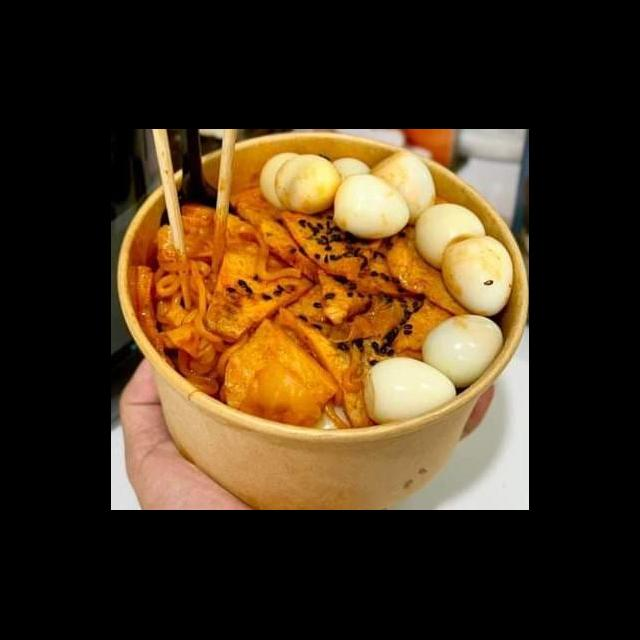dau hu: (217, 314, 344, 438)
mi: (147, 250, 257, 400)
trung: (359, 356, 461, 428), (419, 312, 506, 391), (438, 232, 515, 318), (409, 200, 491, 276), (328, 172, 413, 242), (366, 148, 440, 228), (274, 152, 344, 218), (256, 150, 309, 213), (327, 154, 373, 190)
